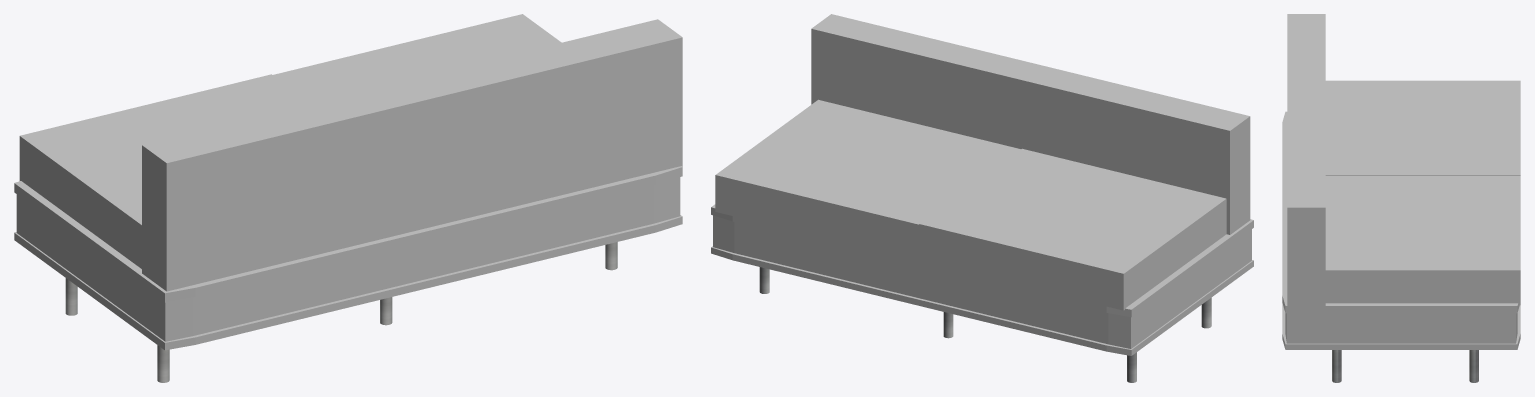
Rendered from couch 1.fbx.
The picture shows the model from 3 angles, left to right: view 1: azimuth 30°, elevation 25°; view 2: azimuth 150°, elevation 25°; view 3: azimuth 270°, elevation 25°; orthographic projection. The views are drawn at different scales.
Visible parts, largest first — view 1: pCube3, couch, pCube4, pCube1; view 2: pCube3, pCube4, pCube1, couch; view 3: pCube1, pCube4, couch, pCube3, leg2, leg3.
Boxes of the visible parts, x1,y1,x2,y2 form: pCube3: (142, 19, 682, 291); couch: (14, 166, 682, 350); pCube4: (19, 74, 311, 268); pCube1: (273, 14, 561, 103); pCube3: (811, 14, 1250, 234); pCube4: (919, 148, 1226, 310); pCube1: (715, 99, 1020, 261); couch: (711, 204, 1253, 355); pCube1: (1325, 176, 1520, 305); pCube4: (1325, 80, 1520, 175); couch: (1282, 111, 1520, 349); pCube3: (1287, 14, 1325, 309); leg2: (1332, 350, 1341, 382); leg3: (1469, 350, 1478, 382).
Bounding box in the file's own units: 15.95 × 7.17 × 8.24.
